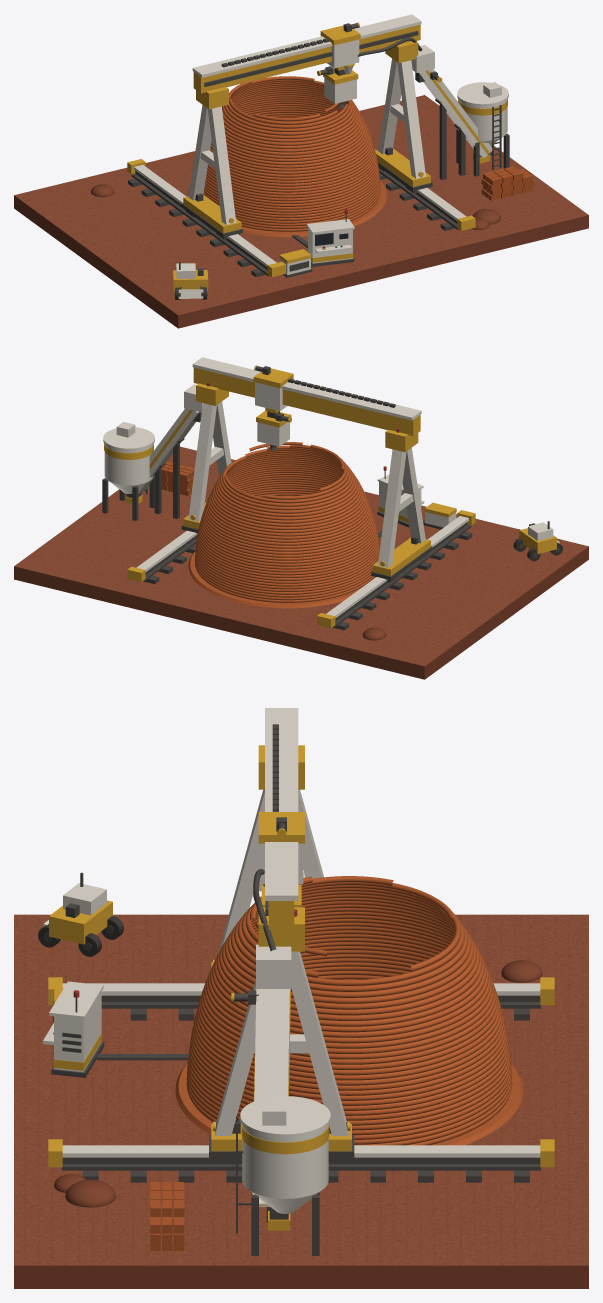
3 views of the same model, one above another, from view 1: azimuth 30°, elevation 25°; view 2: azimuth 150°, elevation 25°; view 3: azimuth 270°, elevation 25° (orthographic). The views are drawn at different scales.
Visible parts, largest first — view 1: mars_regolith_print_site, printed_dome, control_station, loader_robot; view 2: mars_regolith_print_site, printed_dome, loader_robot, control_station; view 3: mars_regolith_print_site, printed_dome, control_station, loader_robot.
Boxes of the visible parts, x1,y1,x2,y2 form: mars_regolith_print_site: [14, 14, 588, 328]; printed_dome: [188, 76, 387, 237]; control_station: [307, 213, 354, 266]; loader_robot: [173, 262, 208, 299]; mars_regolith_print_site: [14, 357, 588, 679]; printed_dome: [188, 442, 379, 608]; loader_robot: [513, 521, 562, 561]; control_station: [377, 470, 424, 527]; mars_regolith_print_site: [14, 708, 588, 1288]; printed_dome: [175, 876, 523, 1145]; control_station: [43, 981, 104, 1077]; loader_robot: [38, 872, 123, 956].
Size of the model in its own units: 26 by 11.35 by 18.
Materials: 11 (1 with a texture image).
